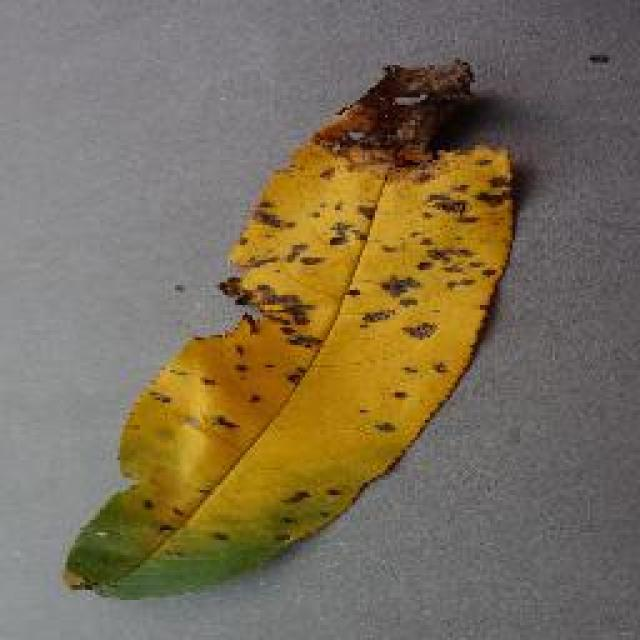Peach_Bacterial_Spot: (273, 75, 482, 413)
